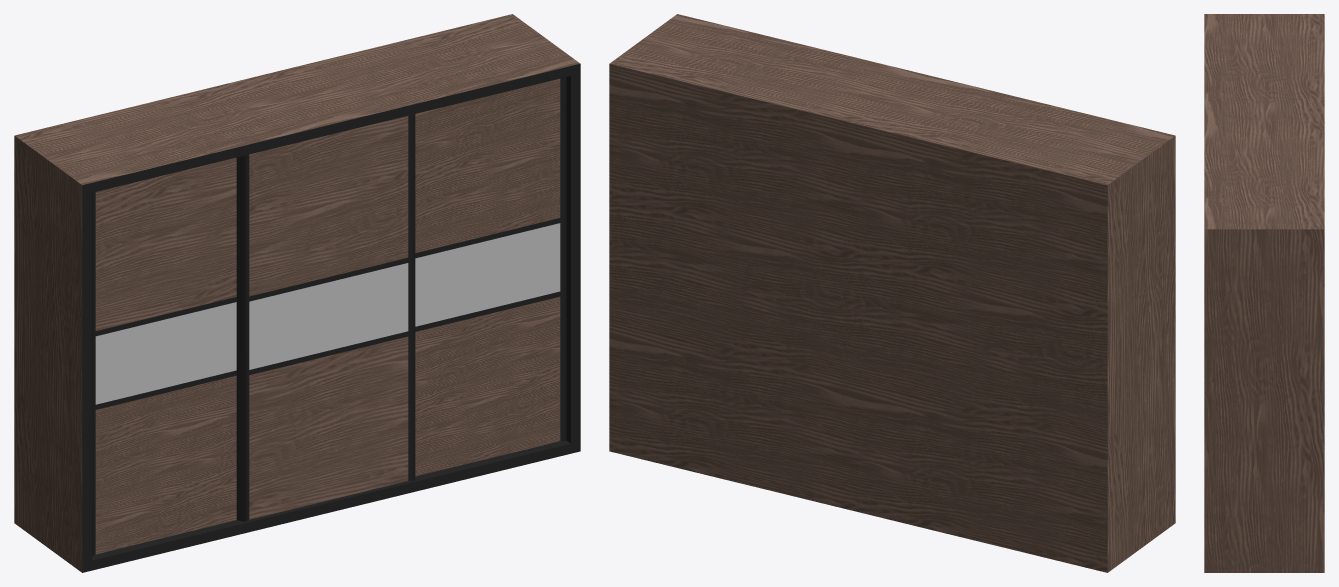
Rendered from cupboard_003.fbx.
3 views of the same model, side by side, from view 1: azimuth 30°, elevation 25°; view 2: azimuth 150°, elevation 25°; view 3: azimuth 270°, elevation 25° (orthographic). The views are drawn at different scales.
Parts seen in each view (by area): view 1: cupboard_003; view 2: cupboard_003; view 3: cupboard_003.
Boxes of the visible parts, x1,y1,x2,y2 form: cupboard_003: (14, 14, 580, 572); cupboard_003: (609, 14, 1175, 572); cupboard_003: (1204, 14, 1324, 572).
Bounding box in the file's own units: 378 × 89.22 × 281.
